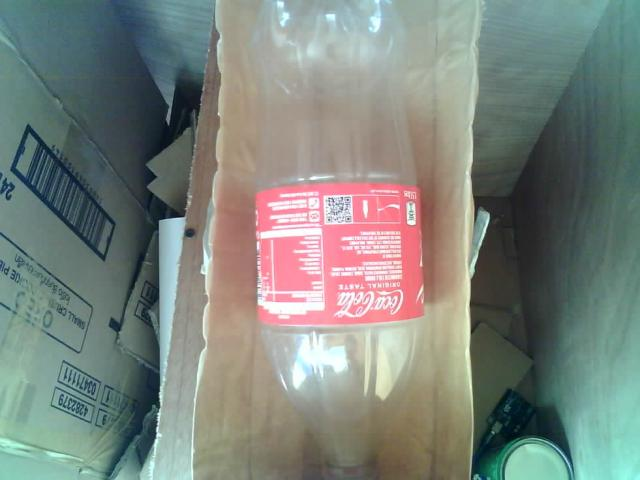large_bottle: (234, 0, 438, 480)
